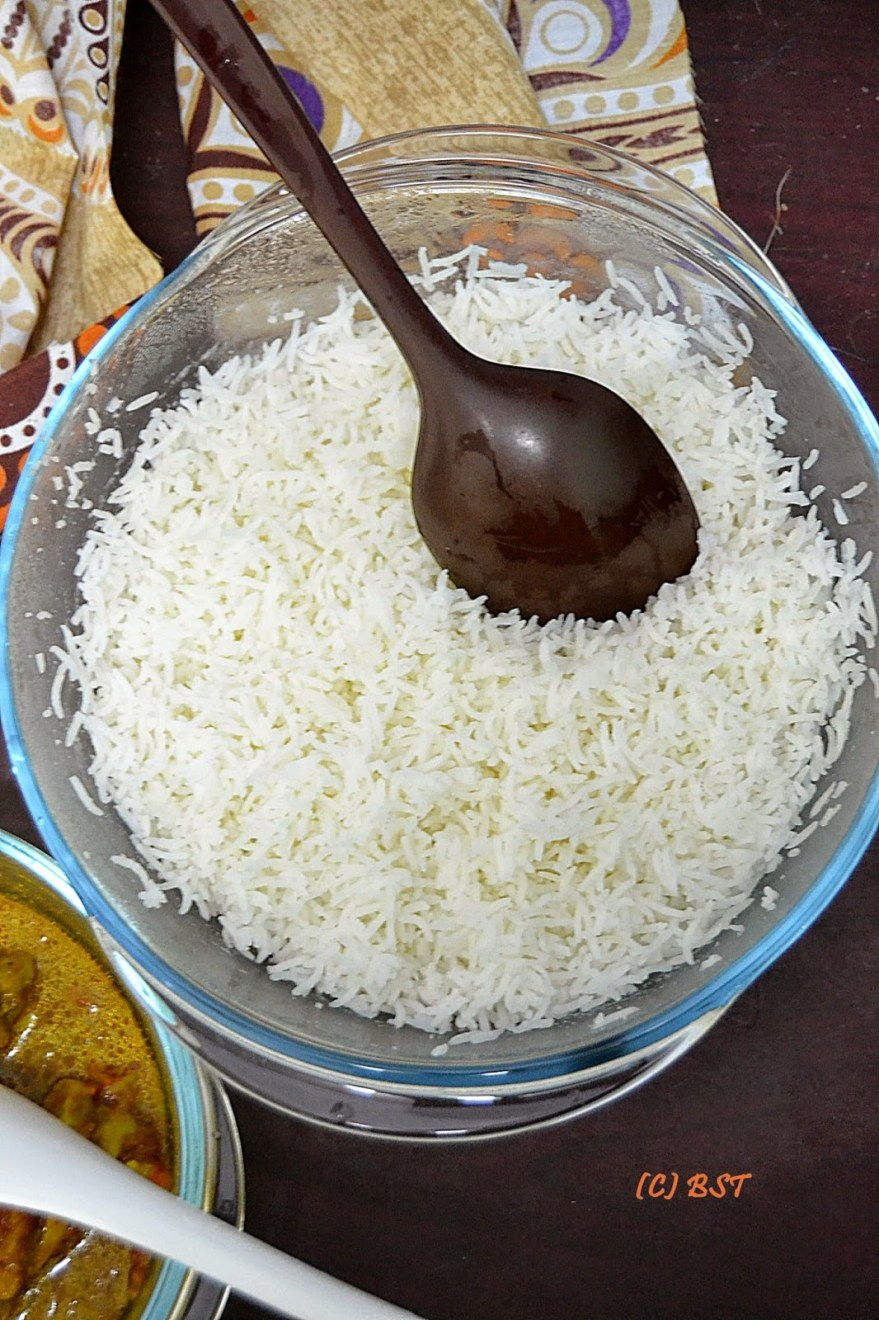plain rice: (112, 292, 846, 1007)
